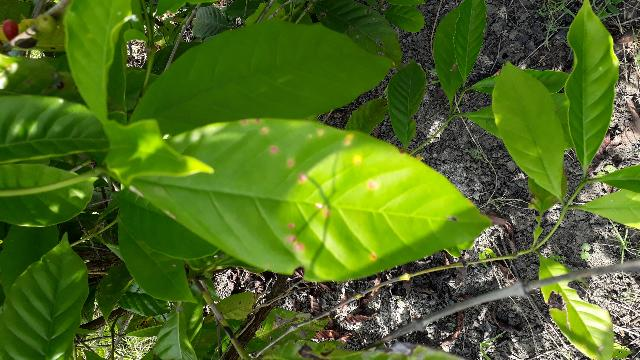rust_level_1: (130, 121, 492, 282)
